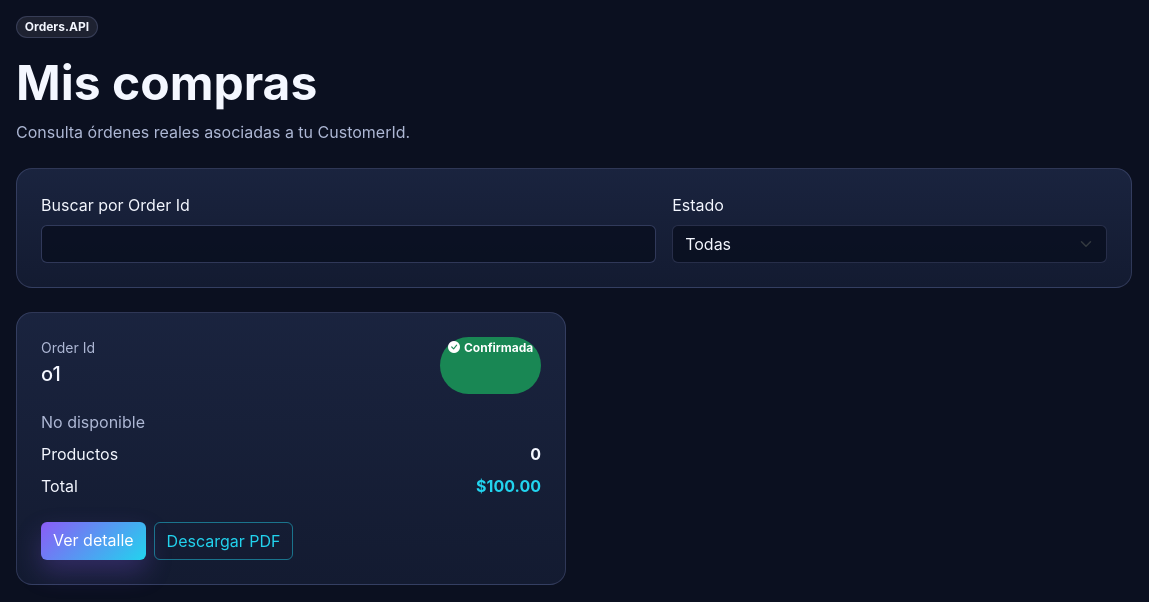
Test: MyOrdersPage › muestra empty state con filtros sin resultados
Check: the heading "o1" is shown, box x1=41 y1=362 x2=61 y2=386
Type "zzz" into the field labelled "Buscar por Order Id" at [349, 244], box x1=41 y1=225 x2=656 y2=263
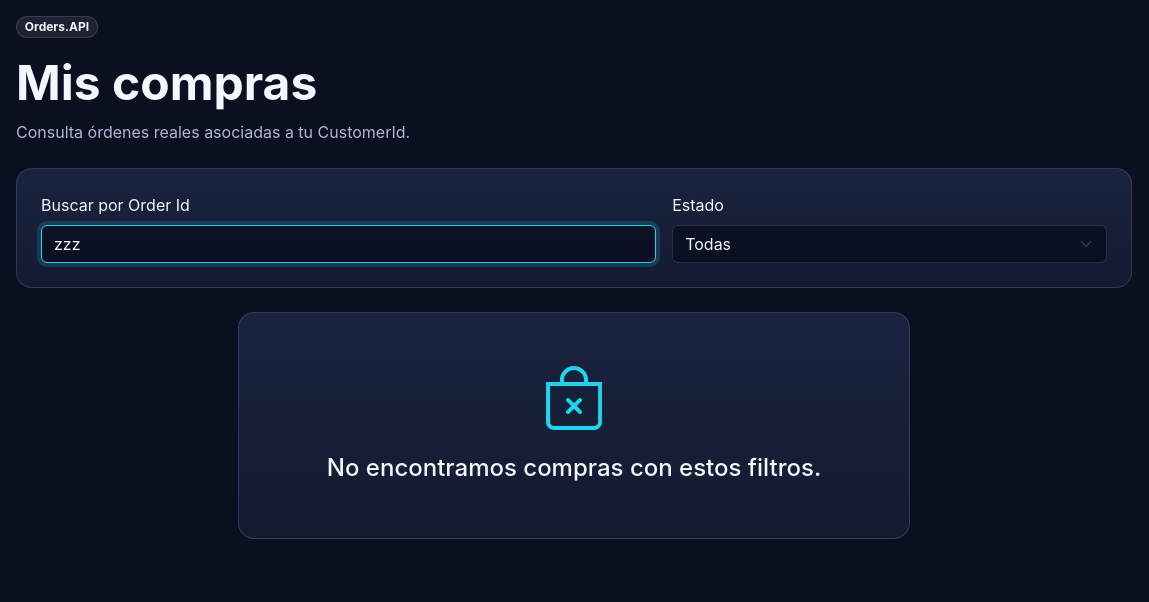
Check: the heading "No encontramos compras con estos filtros." is shown, box x1=287 y1=454 x2=861 y2=482
